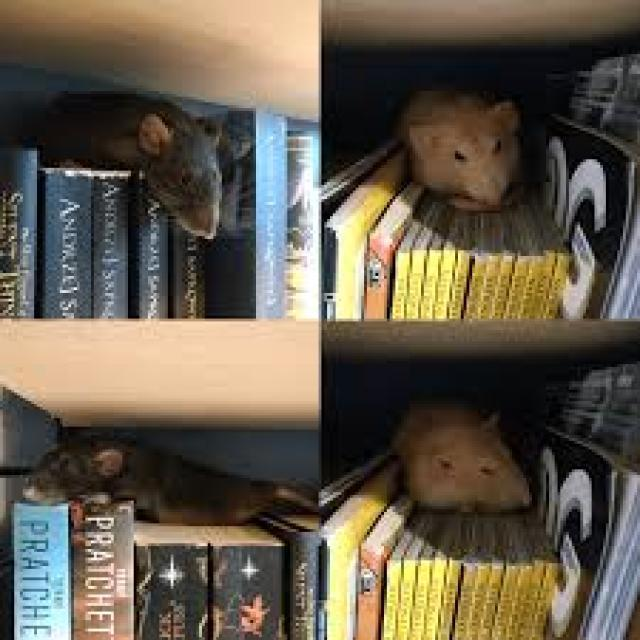Rat: (8, 54, 232, 246), (358, 61, 542, 198), (26, 428, 283, 518), (376, 411, 548, 528)
